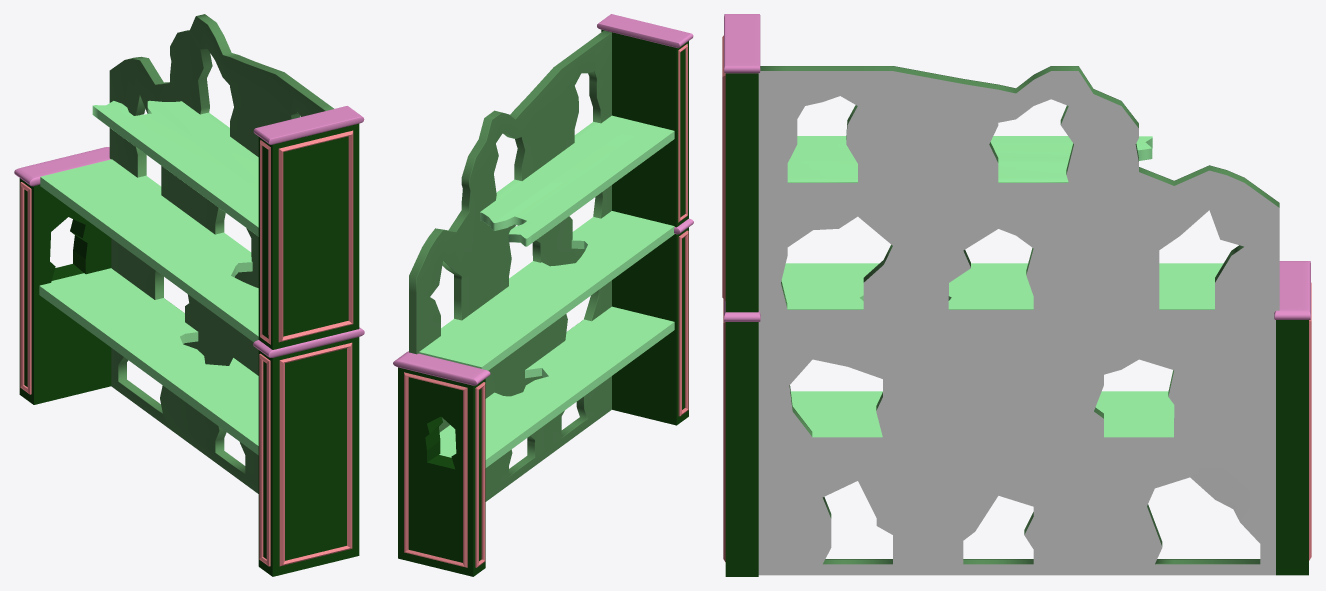
The model's file is Bookcase.fbx.
3 views of the same model, side by side, from view 1: azimuth 30°, elevation 25°; view 2: azimuth 150°, elevation 25°; view 3: azimuth 270°, elevation 25° (orthographic). The views are drawn at different scales.
Visible parts, largest first — view 1: BookcaseSide_2, BookcaseBack, Shelf_2, BookcaseSide_1, Shelf_1, Shelf_3; view 2: BookcaseBack, BookcaseSide_2, BookcaseSide_1, Shelf_2, Shelf_1, Shelf_3; view 3: BookcaseBack.001, BookcaseSide_2, BookcaseSide_1, Shelf_2, Shelf_1, Shelf_3, BookcaseBack.
Part boxes in pixels (bbox=[...]): BookcaseSide_2: bbox=[253, 106, 364, 576]; BookcaseBack: bbox=[109, 14, 333, 493]; Shelf_2: bbox=[40, 159, 258, 342]; BookcaseSide_1: bbox=[14, 147, 111, 404]; Shelf_1: bbox=[39, 268, 258, 455]; Shelf_3: bbox=[92, 100, 258, 236]; BookcaseBack: bbox=[409, 30, 611, 501]; BookcaseSide_2: bbox=[597, 14, 693, 425]; BookcaseSide_1: bbox=[393, 351, 490, 576]; Shelf_2: bbox=[419, 211, 674, 370]; Shelf_1: bbox=[439, 306, 674, 467]; Shelf_3: bbox=[480, 115, 674, 246]; BookcaseBack.001: bbox=[758, 71, 1279, 575]; BookcaseSide_2: bbox=[722, 14, 760, 576]; BookcaseSide_1: bbox=[1274, 261, 1311, 575]; Shelf_2: bbox=[781, 263, 1223, 309]; Shelf_1: bbox=[791, 391, 1174, 437]; Shelf_3: bbox=[787, 136, 1152, 182]; BookcaseBack: bbox=[760, 66, 1279, 564].
Bounding box in the file's own units: 81.75 × 346 × 360.
